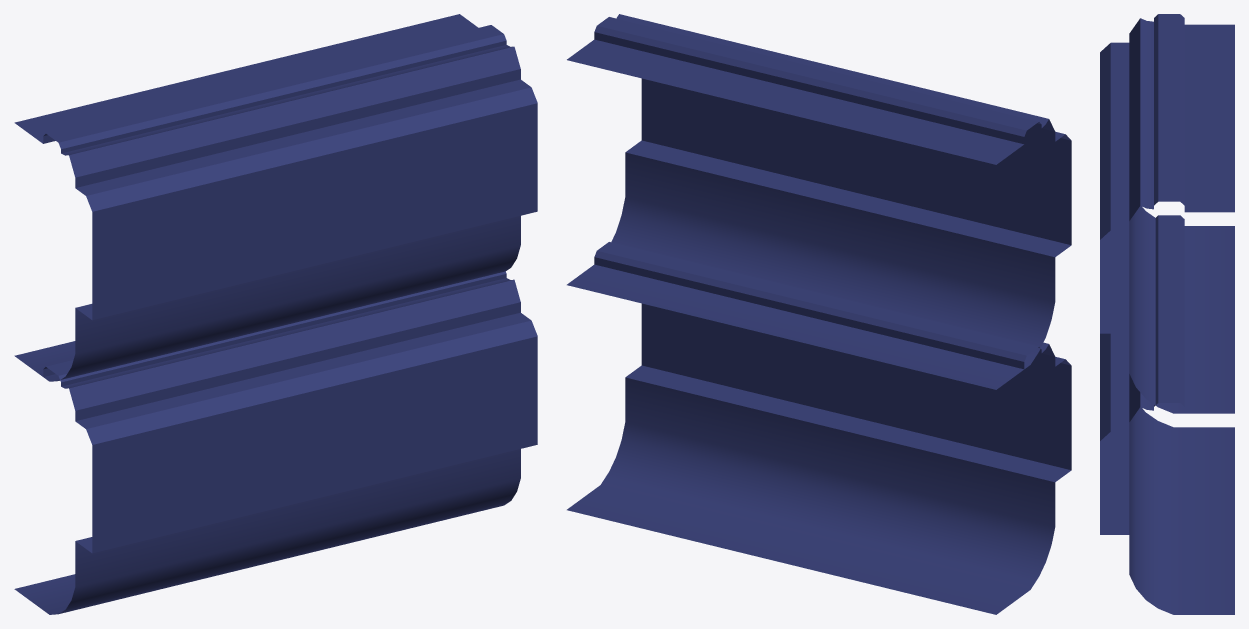
The model's file is wall 1 up 05.FBX.
The picture shows the model from 3 angles, left to right: view 1: azimuth 30°, elevation 25°; view 2: azimuth 150°, elevation 25°; view 3: azimuth 270°, elevation 25°; orthographic projection. The views are drawn at different scales.
Parts seen in each view (by area): view 1: Object1196324282; view 2: Object1196324282; view 3: Object1196324282.
Boxes of the visible parts, x1,y1,x2,y2 form: Object1196324282: [14, 14, 537, 614]; Object1196324282: [567, 14, 1071, 614]; Object1196324282: [1100, 14, 1234, 614].
Bounding box in the file's own units: 2 × 2.05 × 0.607.
